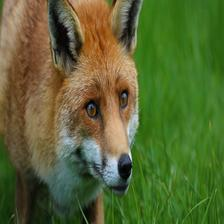fox: (0, 0, 156, 224)
